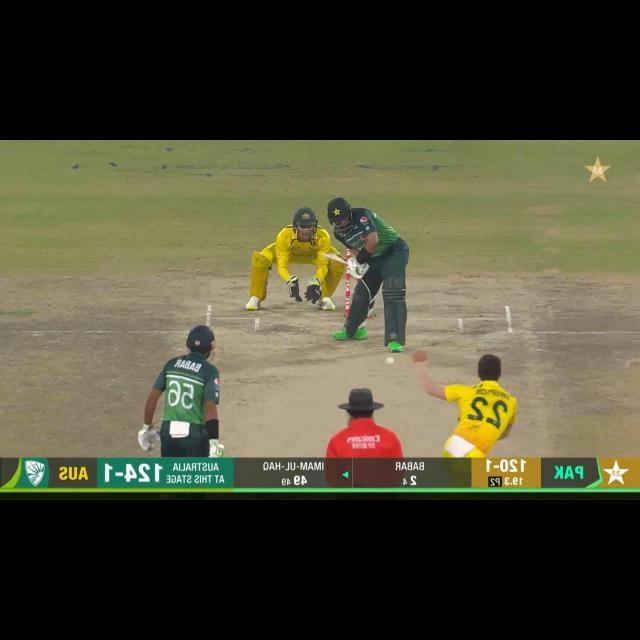bat: (318, 247, 350, 267)
toe: (320, 250, 332, 260)
